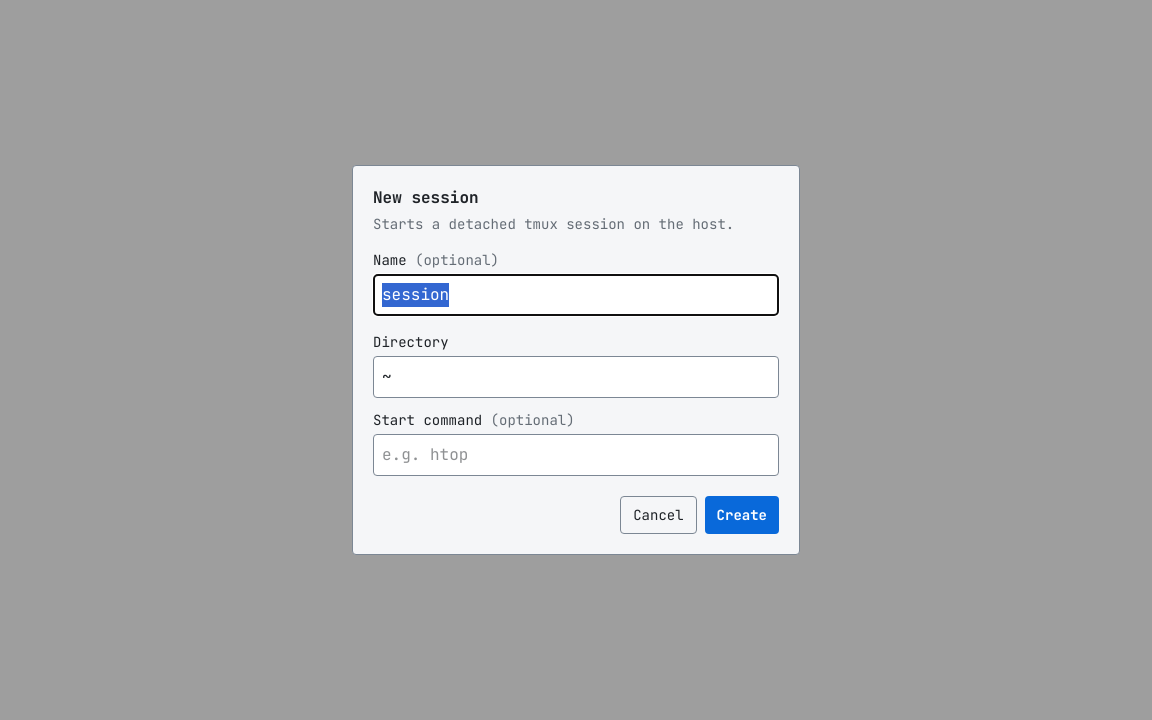
it: CreateSessionDialog › shows an exec timeout in the open create dialog and keeps entered values
This screenshot has width=1152, height=720.
Replace the text in the field labelled "Name (optional)" with "keep-me" at (576, 295), box [373, 274, 779, 316]
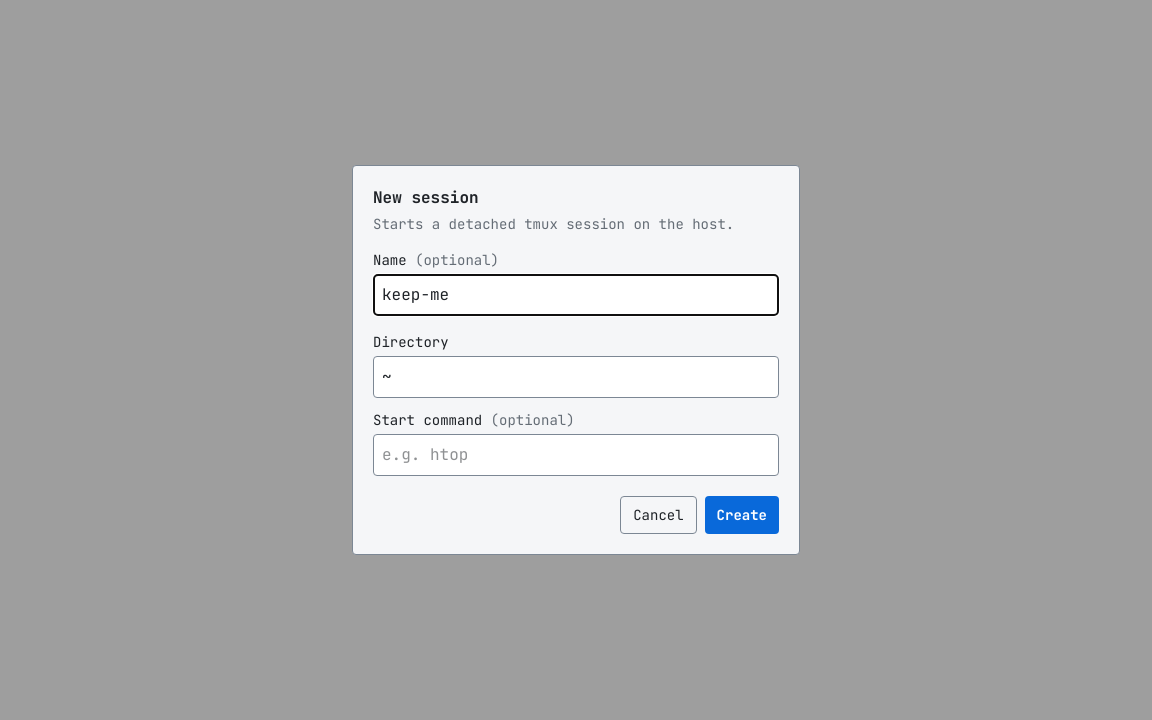
Click the button "Create" at (742, 515), box [705, 496, 779, 534]
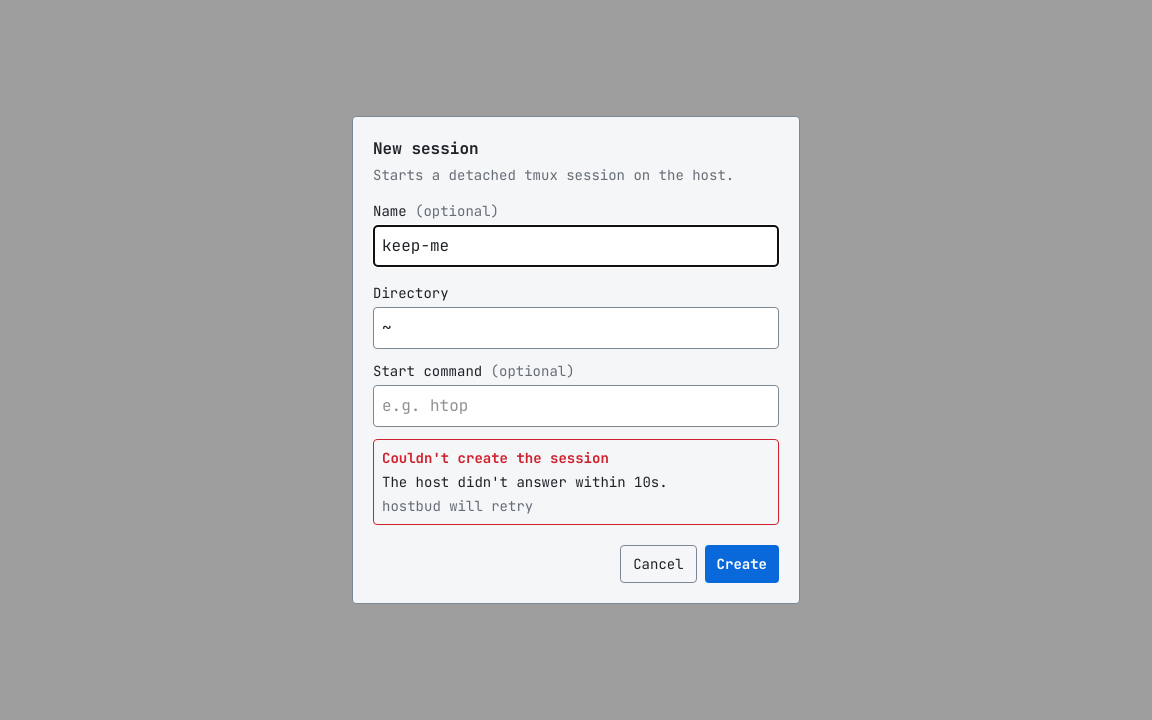
Check: the message shows "The host didn't answer within 10s", box [382, 473, 668, 491]
